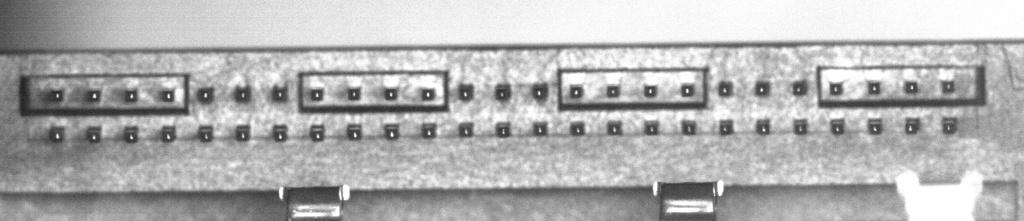pin_ok: (941, 116, 958, 134), (494, 83, 511, 101), (717, 80, 734, 97), (531, 83, 548, 100), (197, 86, 214, 103), (346, 122, 362, 140), (309, 123, 325, 141), (272, 124, 288, 142), (904, 117, 920, 134), (867, 117, 883, 134), (458, 83, 474, 100), (271, 84, 287, 101), (197, 125, 213, 142), (123, 126, 139, 143), (681, 118, 697, 135), (606, 119, 623, 135), (791, 79, 807, 96), (160, 125, 176, 142), (754, 80, 771, 96), (384, 123, 400, 140), (643, 118, 659, 135), (49, 125, 65, 142), (234, 85, 251, 101), (495, 121, 511, 137), (458, 121, 474, 137), (421, 122, 437, 138), (235, 124, 250, 141), (756, 118, 771, 135), (719, 118, 734, 135), (86, 126, 101, 143), (532, 121, 549, 136), (793, 118, 808, 134), (570, 121, 586, 136), (568, 84, 584, 99), (830, 119, 845, 135), (941, 79, 956, 94), (346, 86, 361, 101), (680, 83, 695, 98), (48, 88, 64, 102), (160, 88, 176, 102), (828, 81, 844, 95), (903, 80, 919, 94), (867, 80, 881, 95), (309, 87, 324, 101), (421, 87, 436, 101), (85, 89, 101, 102), (124, 88, 138, 102), (643, 83, 657, 97), (384, 86, 398, 100), (605, 84, 620, 97)
